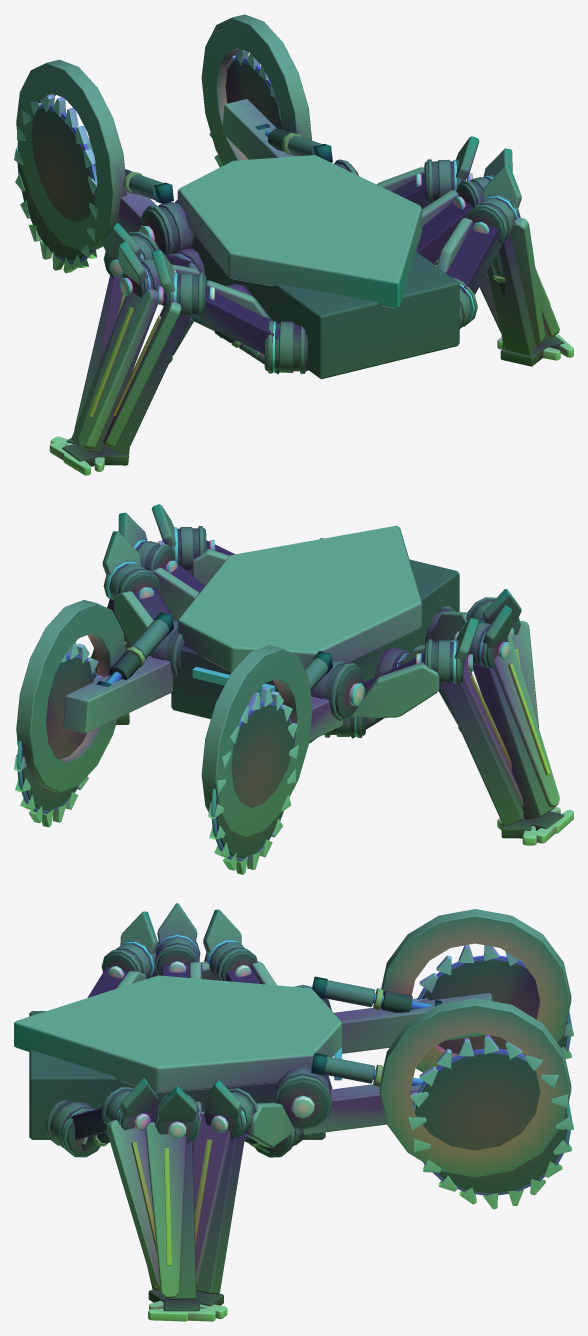
The model's file is ripper.glb.
The picture shows the model from 3 angles, top to bottom: view 1: azimuth 30°, elevation 25°; view 2: azimuth 150°, elevation 25°; view 3: azimuth 270°, elevation 25°; orthographic projection.
Visible parts, largest first — view 1: Body__armor, Body__dark, Scythe_0__armor_sub, Scythe_1__armor_sub, Scythe_0_Spinner_X_0__dark, Hip_5_Knee__gunmetal, Hip_2_Knee__armor, Hip_4__dark, Hip_4_Knee__gunmetal, Scythe_0_Spinner_X_0__chrome, Hip_4_Knee__armor, Scythe_1__armor (+28 smaller); view 2: Body__armor, Scythe_1__armor_sub, Scythe_0__armor_sub, Scythe_0_Spinner_X_0__dark, Body__dark, Hip_0_Knee__gunmetal, Scythe_1__armor, Hip_2_Knee__gunmetal, Scythe_1_Spinner_X_1__dark, Hip_0__armor, Hip_2_Knee__armor, Scythe_0_Spinner_X_0__chrome (+34 smaller); view 3: Body__armor, Scythe_1__armor_sub, Scythe_1_Spinner_X_1__dark, Scythe_0__armor_sub, Body__dark, Hip_3_Knee__armor, Scythe_0_Spinner_X_0__dark, Hip_1_Knee__gunmetal, Scythe_1_Spinner_X_1__chrome, Hip_5_Knee__armor, Scythe_0__armor, Hip_1_Knee__armor (+32 smaller).
Part boxes in pixels (x1=…): Body__armor: x1=177, y1=155, x2=422, y2=308; Body__dark: x1=193, y1=234, x2=459, y2=379; Scythe_0__armor_sub: x1=16, y1=59, x2=126, y2=251; Scythe_1__armor_sub: x1=201, y1=14, x2=311, y2=165; Scythe_0_Spinner_X_0__dark: x1=18, y1=107, x2=95, y2=261; Hip_5_Knee__gunmetal: x1=466, y1=194, x2=537, y2=355; Hip_2_Knee__armor: x1=78, y1=289, x2=157, y2=449; Hip_4__dark: x1=190, y1=288, x2=308, y2=373; Hip_4_Knee__gunmetal: x1=107, y1=272, x2=203, y2=453; Scythe_0_Spinner_X_0__chrome: x1=14, y1=94, x2=97, y2=273; Hip_4_Knee__armor: x1=103, y1=301, x2=181, y2=448; Scythe_1__armor: x1=222, y1=99, x2=297, y2=159; Body__armor: x1=177, y1=525, x2=422, y2=672; Scythe_1__armor_sub: x1=16, y1=600, x2=125, y2=792; Scythe_0__armor_sub: x1=201, y1=645, x2=312, y2=837; Scythe_0_Spinner_X_0__dark: x1=215, y1=704, x2=294, y2=858; Body__dark: x1=171, y1=538, x2=459, y2=743; Hip_0_Knee__gunmetal: x1=427, y1=639, x2=523, y2=826; Scythe_1__armor: x1=63, y1=656, x2=172, y2=733; Hip_2_Knee__gunmetal: x1=460, y1=622, x2=554, y2=819; Scythe_1_Spinner_X_1__dark: x1=21, y1=657, x2=96, y2=810; Hip_0__armor: x1=350, y1=662, x2=439, y2=718; Hip_2_Knee__armor: x1=494, y1=635, x2=559, y2=807; Scythe_0_Spinner_X_0__chrome: x1=208, y1=687, x2=298, y2=874; Body__armor: x1=14, y1=975, x2=341, y2=1093; Scythe_1__armor_sub: x1=379, y1=998, x2=571, y2=1177; Scythe_1_Spinner_X_1__dark: x1=415, y1=1052, x2=567, y2=1193; Scythe_0__armor_sub: x1=380, y1=909, x2=571, y2=1072; Body__dark: x1=29, y1=1011, x2=325, y2=1139; Hip_3_Knee__armor: x1=145, y1=1122, x2=186, y2=1298; Scythe_0_Spinner_X_0__dark: x1=422, y1=959, x2=567, y2=1053; Hip_1_Knee__gunmetal: x1=196, y1=1088, x2=257, y2=1294; Scythe_1_Spinner_X_1__chrome: x1=408, y1=1035, x2=573, y2=1209; Hip_5_Knee__armor: x1=106, y1=1120, x2=160, y2=1288; Scythe_0__armor: x1=334, y1=993, x2=492, y2=1053; Hip_1_Knee__armor: x1=193, y1=1111, x2=230, y2=1284.
Size of the model in its own units: 2.24 by 1.08 by 2.23.
